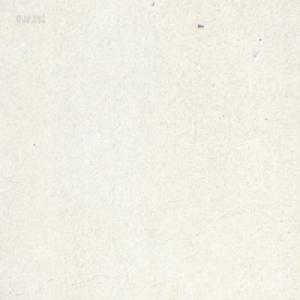Nail: (197, 23, 204, 28)
